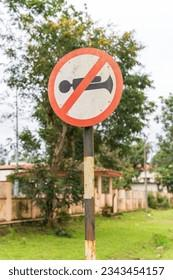Horn Prohibited: (45, 35, 139, 134)
